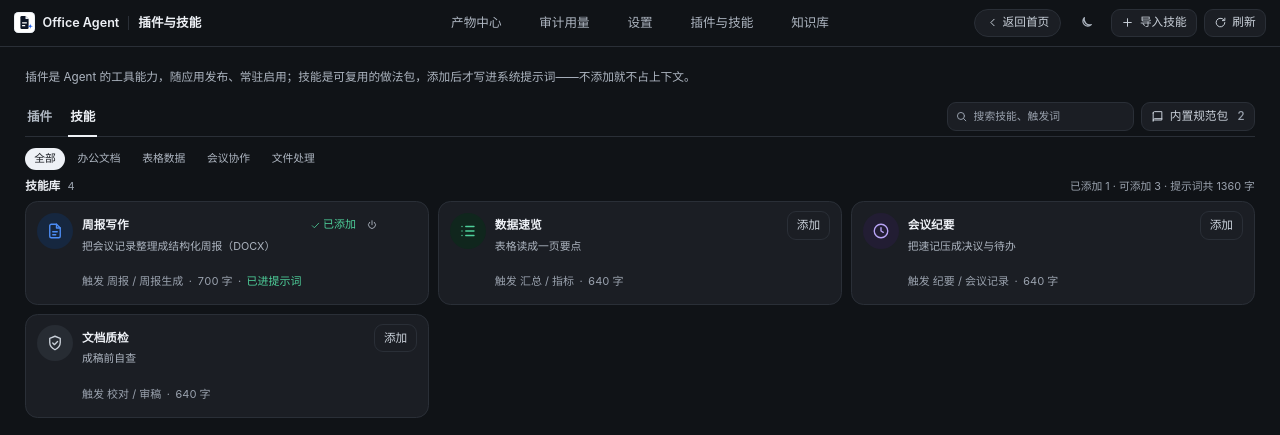
Test case: SkillsPage › 插件 tab：读真实工具，按分组展示，只读且全部启用
This screenshot has width=1280, height=435.
Expected: the element with test id "skills-grid" is shown, [25, 201, 1255, 418]
Step 1. Click the tab "插件" → (40, 122), box [25, 106, 54, 137]
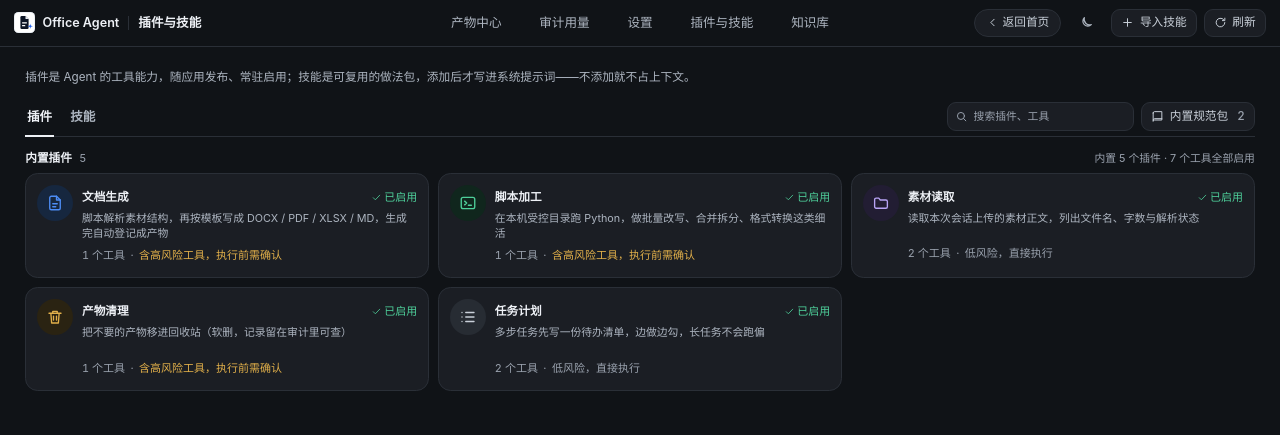
Now the heading "文档生成" is shown, box [82, 190, 129, 204]
Now the heading "脚本加工" is shown, box [495, 190, 542, 204]
Now the heading "素材读取" is shown, box [908, 190, 954, 204]
